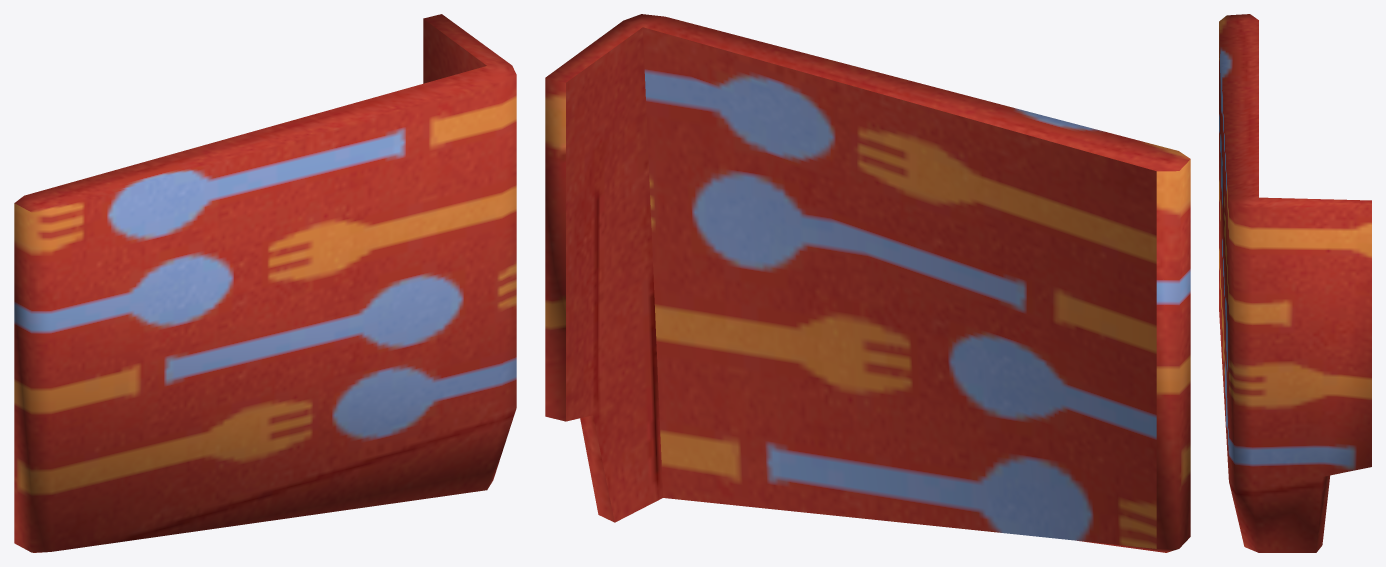
Rendered from nt_2020_towel_kitchen_01_LOD0.obj.
The picture shows the model from 3 angles, left to right: view 1: azimuth 30°, elevation 25°; view 2: azimuth 150°, elevation 25°; view 3: azimuth 270°, elevation 25°; orthographic projection. The views are drawn at different scales.
Visible parts, largest first — view 1: mtl_nt_2020_towel_kitchen_01; view 2: mtl_nt_2020_towel_kitchen_01; view 3: mtl_nt_2020_towel_kitchen_01.
Boxes of the visible parts, bbox=[...] form: mtl_nt_2020_towel_kitchen_01: bbox=[14, 14, 516, 552]; mtl_nt_2020_towel_kitchen_01: bbox=[545, 14, 1190, 552]; mtl_nt_2020_towel_kitchen_01: bbox=[1219, 14, 1371, 552].
Size of the model in its own units: 78.67 by 63.16 by 24.59.
